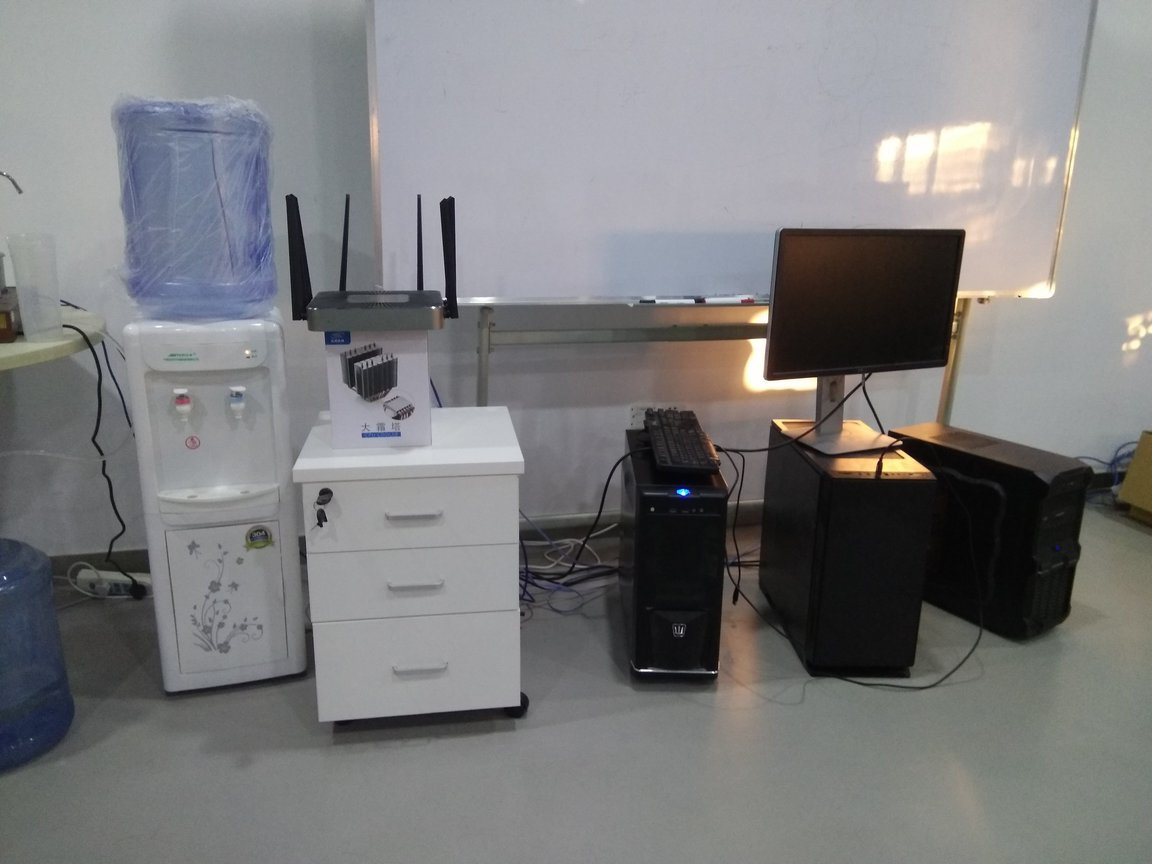computer: (769, 413, 953, 696), (891, 414, 1086, 657), (621, 416, 736, 702)
drawer chest: (289, 393, 540, 735)
monitor: (767, 217, 972, 469)
scuttlebutt: (102, 87, 291, 322), (1, 518, 87, 779)
water dispenser: (118, 314, 306, 693)
